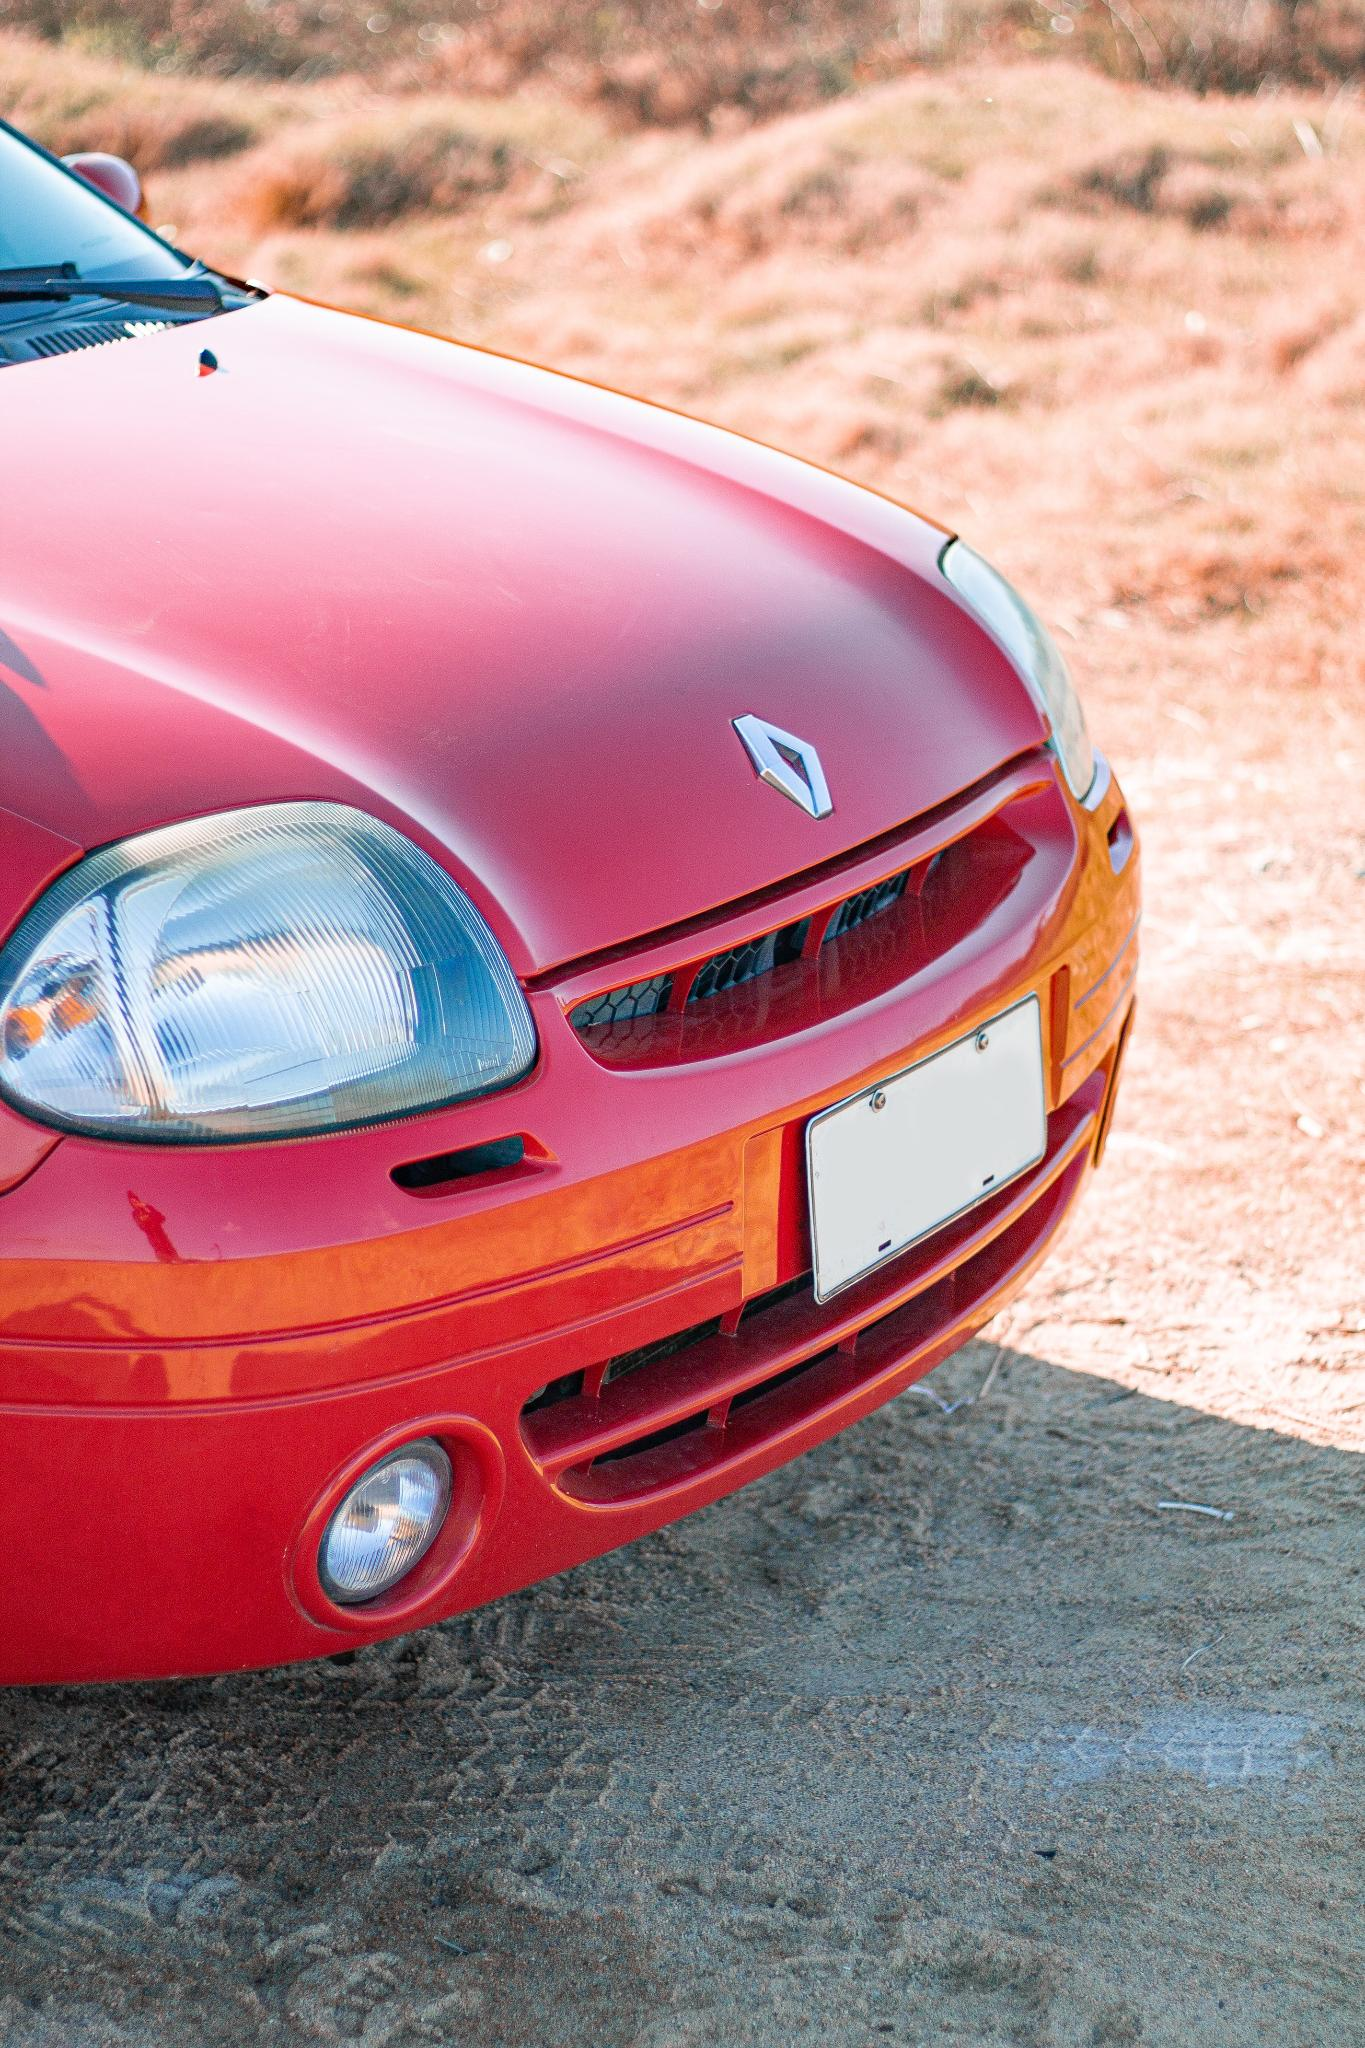Renault: (719, 678, 849, 869)
